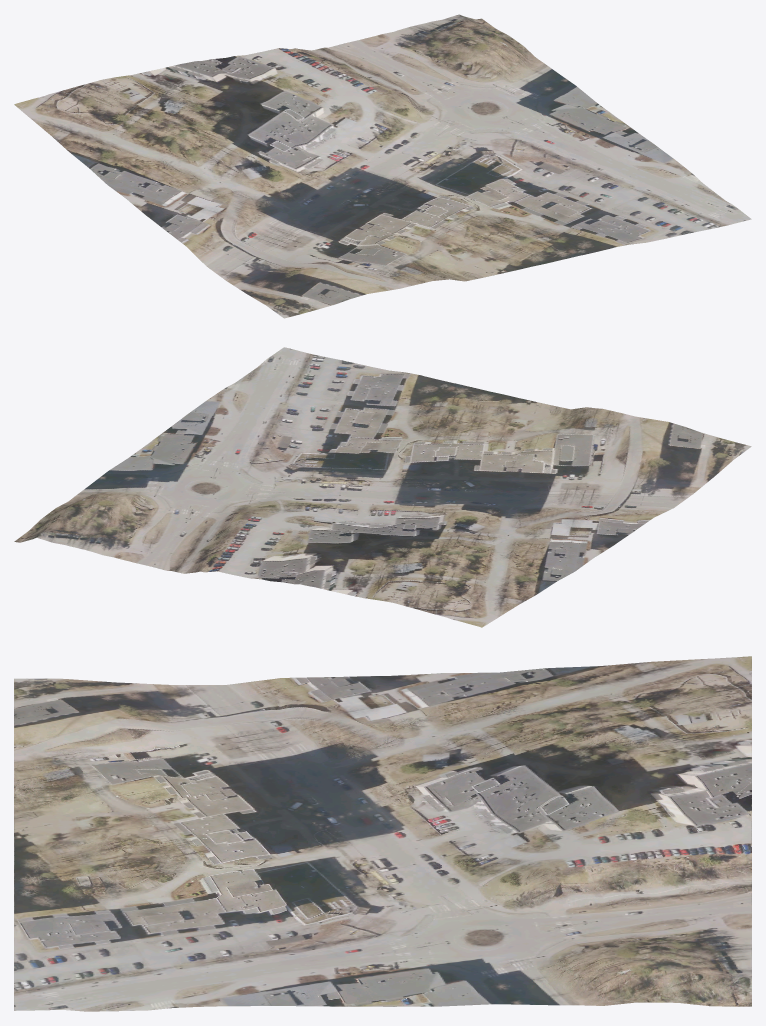
Rendered from CM_Terrain_24491687_6815903.fbx.
3 views of the same model, one above another, from view 1: azimuth 30°, elevation 25°; view 2: azimuth 150°, elevation 25°; view 3: azimuth 270°, elevation 25° (orthographic). The views are drawn at different scales.
Visible parts, largest first — view 1: CM_Terrain_24491687_6815903_LOD0; view 2: CM_Terrain_24491687_6815903_LOD0; view 3: CM_Terrain_24491687_6815903_LOD0.
Part boxes in pixels (box(x1,y1,x2,y2)): CM_Terrain_24491687_6815903_LOD0: box(14, 14, 751, 318); CM_Terrain_24491687_6815903_LOD0: box(14, 347, 751, 627); CM_Terrain_24491687_6815903_LOD0: box(14, 656, 751, 1011).
Size of what is drawn, in the model's own units: 205 by 14.71 by 205.
